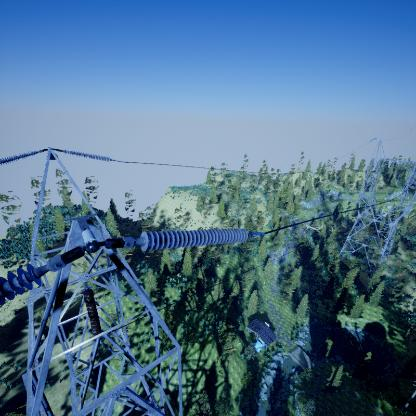insulator: (138, 227, 250, 252)
tower: (333, 130, 416, 285)
